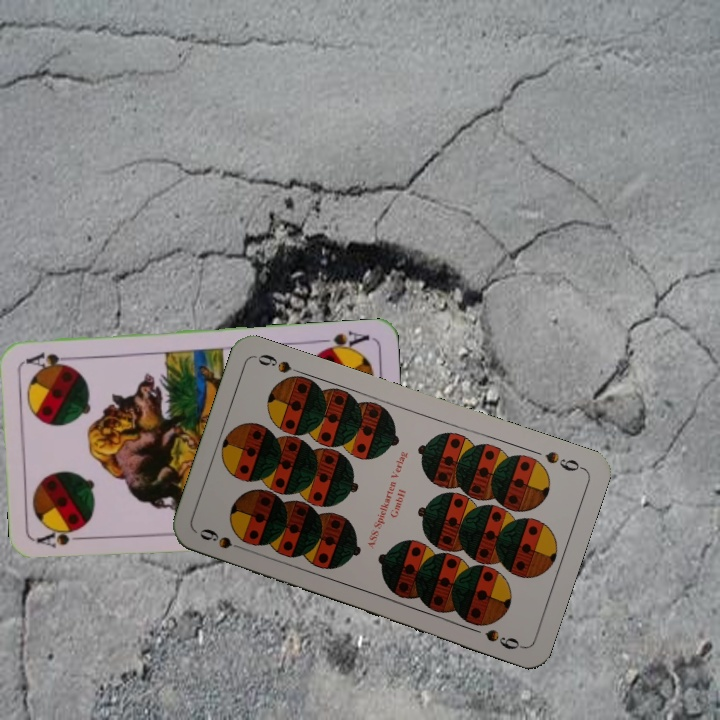S9: (195, 524, 252, 554), (541, 447, 586, 474)
SA: (313, 327, 372, 356), (34, 529, 93, 550)
